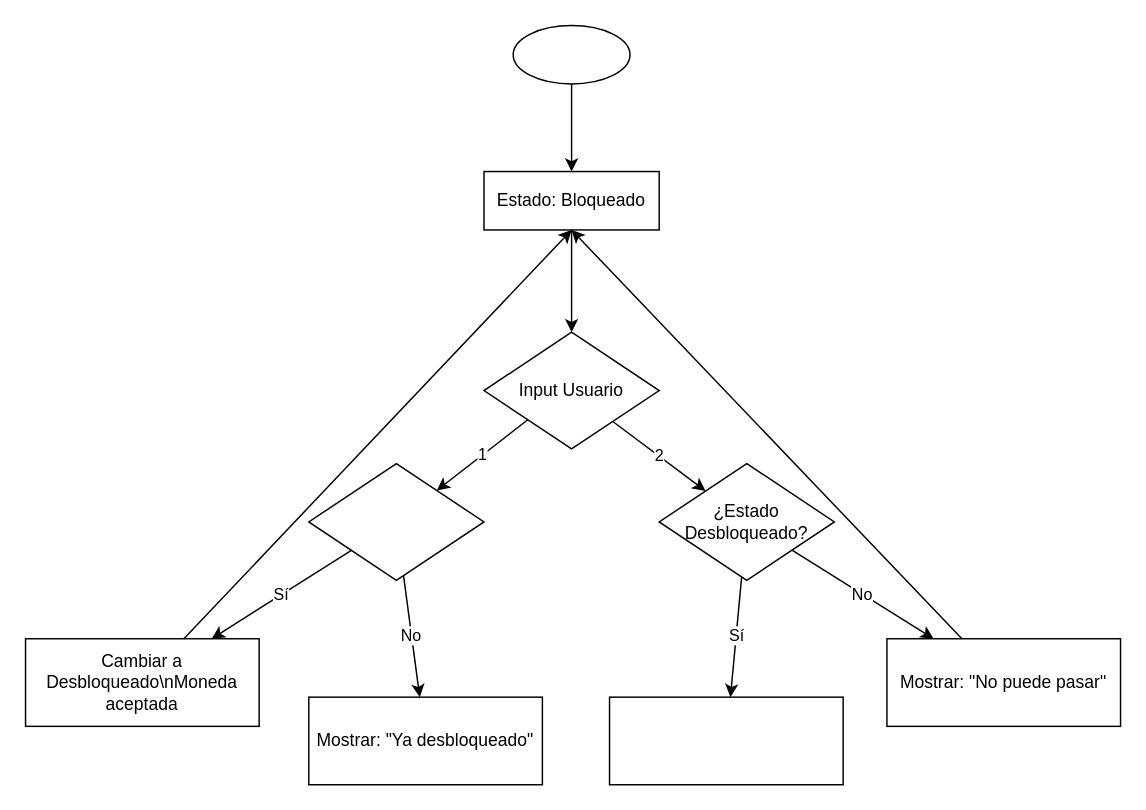
This 1146x810 diagram has some shape labels left out. Each missing label, with the centre of its shape:
"Cambiar a Bloqueado\nEmpuje exitoso" belongs at point (725, 740).
"Inicio" belongs at point (571, 54).
"¿Estado Bloqueado?" belongs at point (395, 521).
